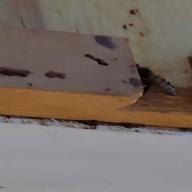Bee: (138, 62, 186, 99)
